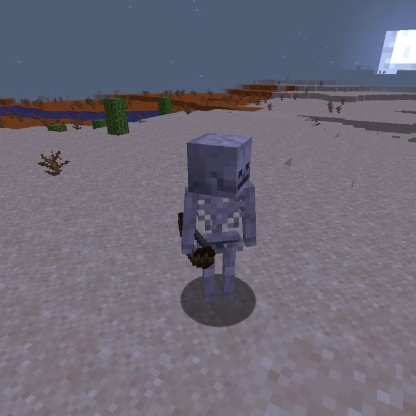skeleton: (173, 129, 263, 304)
